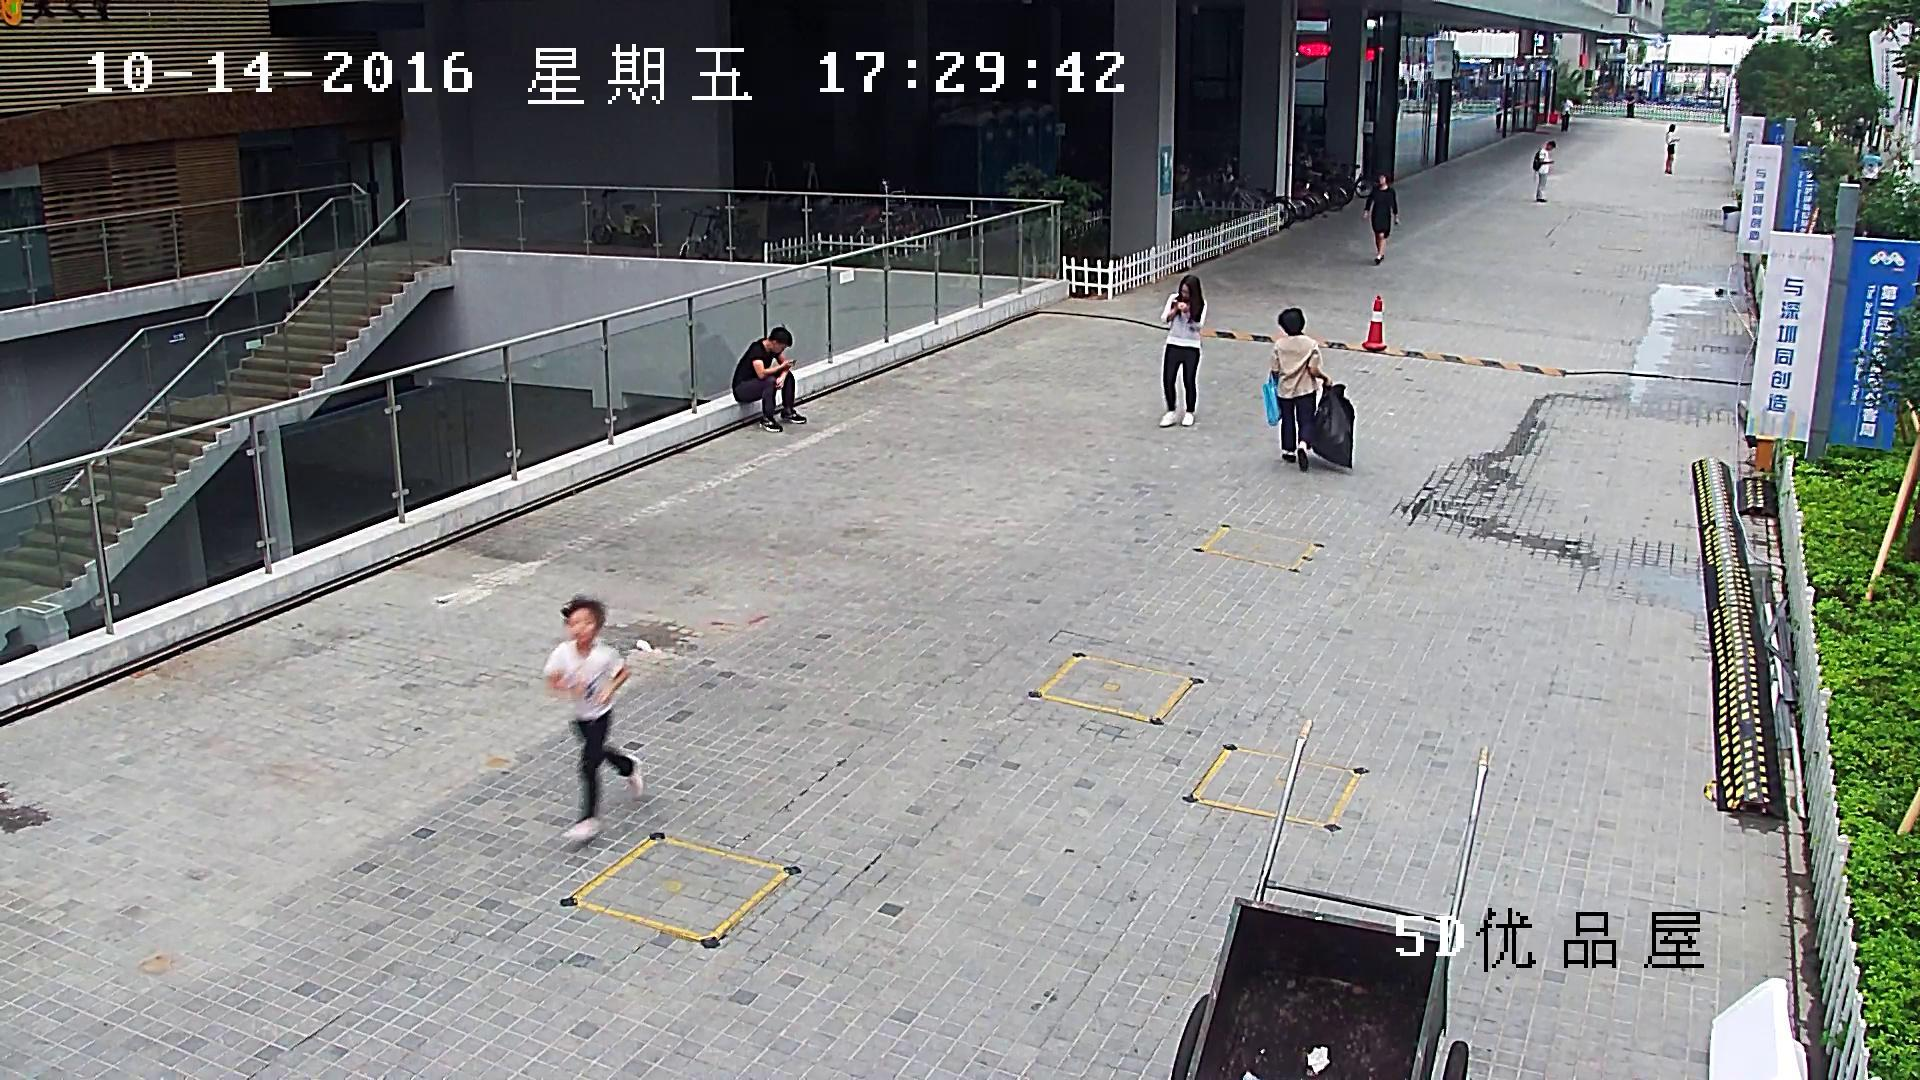person: (542, 595, 648, 845), (1261, 306, 1354, 473), (1261, 306, 1333, 473), (730, 327, 807, 433), (1158, 275, 1208, 427), (1361, 174, 1399, 264), (1532, 140, 1557, 203), (1664, 124, 1680, 175), (1560, 96, 1573, 134), (1624, 89, 1636, 120)
